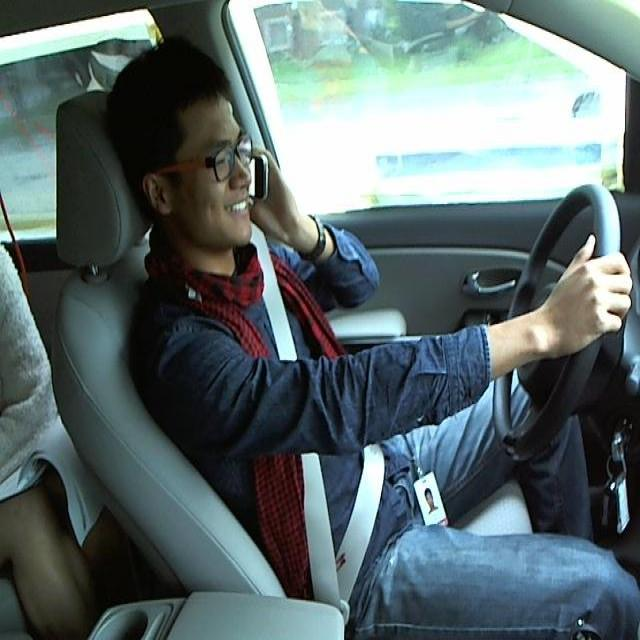using_phone: (85, 16, 351, 343)
